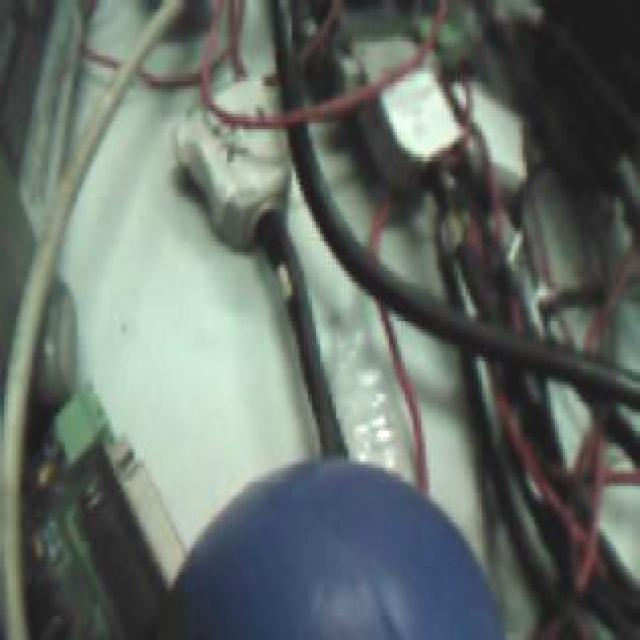BallPurple: (168, 454, 508, 640)
